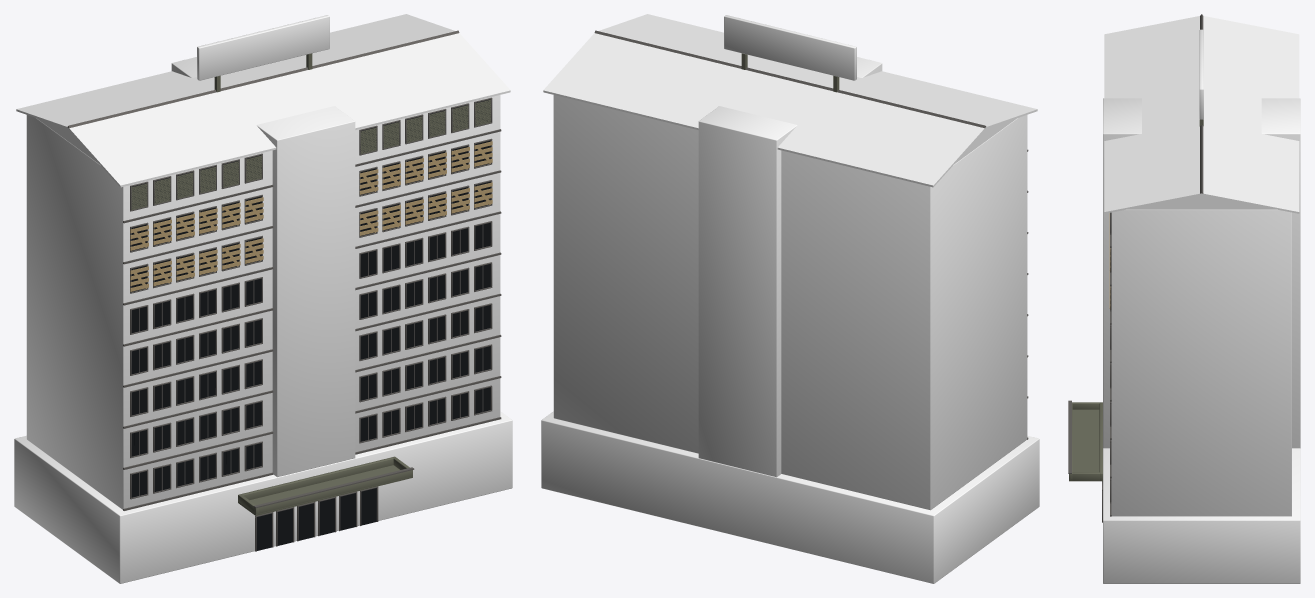
The model's file is bld_tower_casino.glb.
The picture shows the model from 3 angles, left to right: view 1: azimuth 30°, elevation 25°; view 2: azimuth 150°, elevation 25°; view 3: azimuth 270°, elevation 25°; orthographic projection. The views are drawn at different scales.
Visible parts, largest first — view 1: tc_tower, tc_core, tc_ground, tc_roof_front, tc_roof_back, tc_sign, tc_marq_deck, tc_roof_cap, tc_marq_parapet.001, tc_marq_parapet, tc_sill5, tc_sill1 (+6 smaller); view 2: tc_tower, tc_ground, tc_core, tc_roof_back, tc_roof_front, tc_sign, tc_roof_cap; view 3: tc_tower, tc_roof_back, tc_roof_front, tc_ground, tc_core, tc_marq_deck, tc_roof_gable, tc_sign, tc_roof_cap.
Part boxes in pixels (x1,y1,x2,y2): tc_tower: (26,95,500,509); tc_core: (171,57,355,477); tc_ground: (14,411,512,583); tc_roof_front: (68,33,510,187); tc_roof_back: (16,14,455,128); tc_sign: (197,15,329,80); tc_marq_deck: (238,465,412,515); tc_roof_cap: (67,30,459,128); tc_marq_parapet.001: (238,456,395,500); tc_marq_parapet: (254,470,412,515); tc_sill5: (123,211,501,305); tc_sill1: (123,376,501,469); tc_tower: (553,95,1027,510); tc_ground: (541,411,1039,583); tc_core: (698,57,882,477); tc_roof_back: (543,33,985,187); tc_roof_front: (598,14,1037,128); tc_sign: (724,15,856,80); tc_roof_cap: (594,30,986,128); tc_tower: (1111,209,1291,516); tc_roof_back: (1201,16,1299,213); tc_roof_front: (1104,16,1201,213); tc_ground: (1103,448,1300,583); tc_core: (1103,98,1300,448); tc_marq_deck: (1069,409,1102,481); tc_roof_gable: (1127,195,1275,209); tc_sign: (1199,29,1203,119); tc_roof_cap: (1200,14,1203,193).
Size of the model in its own units: 30 by 34.02 by 16.45.
